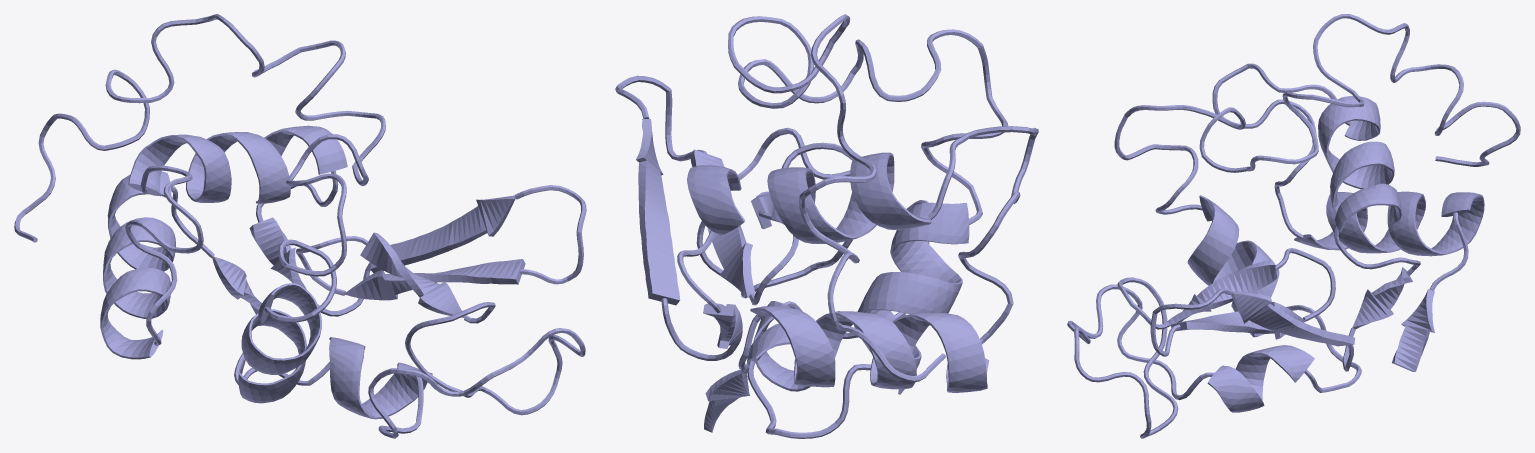
Rendered from 1lyz__cartoon__b-factor.glb.
3 views of the same model, side by side, from view 1: azimuth 30°, elevation 25°; view 2: azimuth 150°, elevation 25°; view 3: azimuth 270°, elevation 25° (orthographic). The views are drawn at different scales.
Parts seen in each view (by area): view 1: Renderer Node; view 2: Renderer Node; view 3: Renderer Node.
Boxes of the visible parts, x1,y1,x2,y2 form: Renderer Node: (14,14,586,438); Renderer Node: (615,14,1038,438); Renderer Node: (1067,14,1520,438).
Size of the model in its own units: 34.97 by 30.68 by 35.96.
